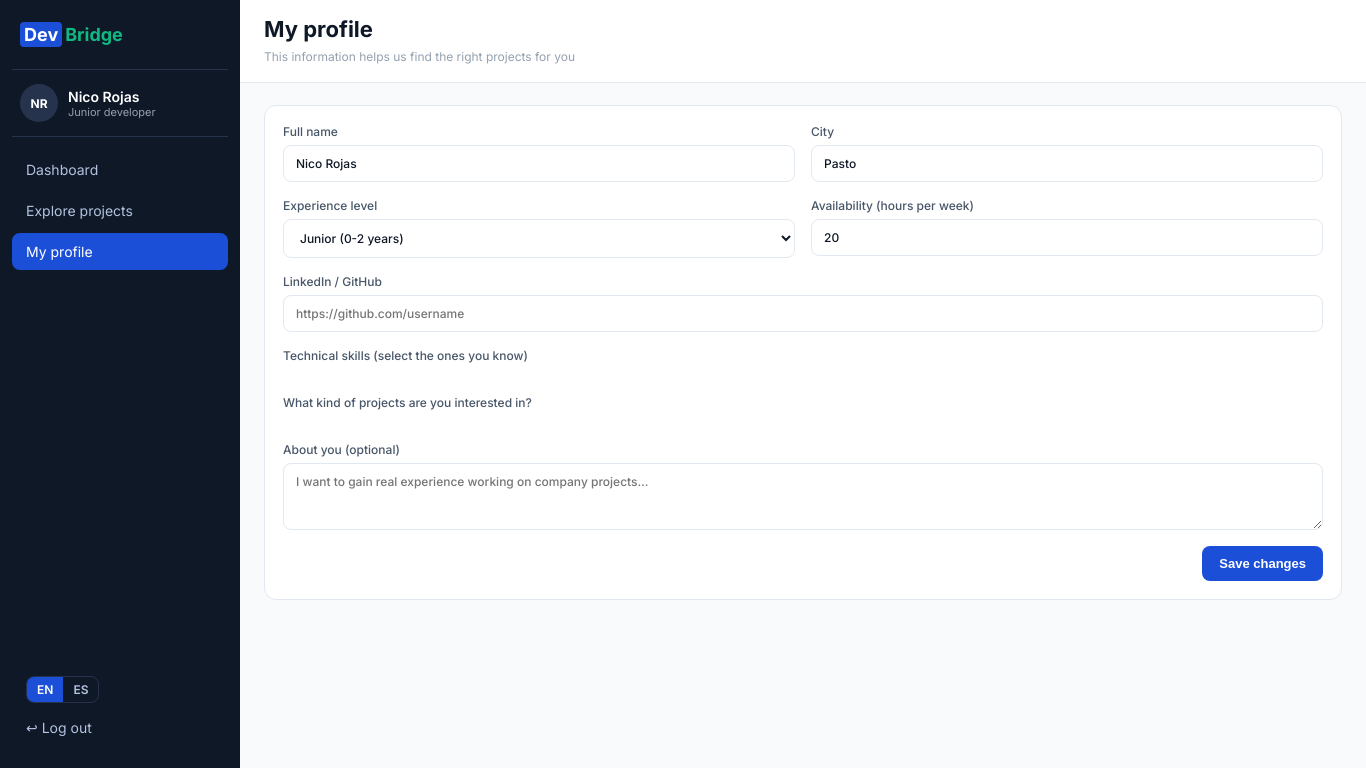
it: Profile › saves the changes
Replace the text in the field labelled "City" with "Bogotá" at (1067, 164), box [811,145,1323,182]
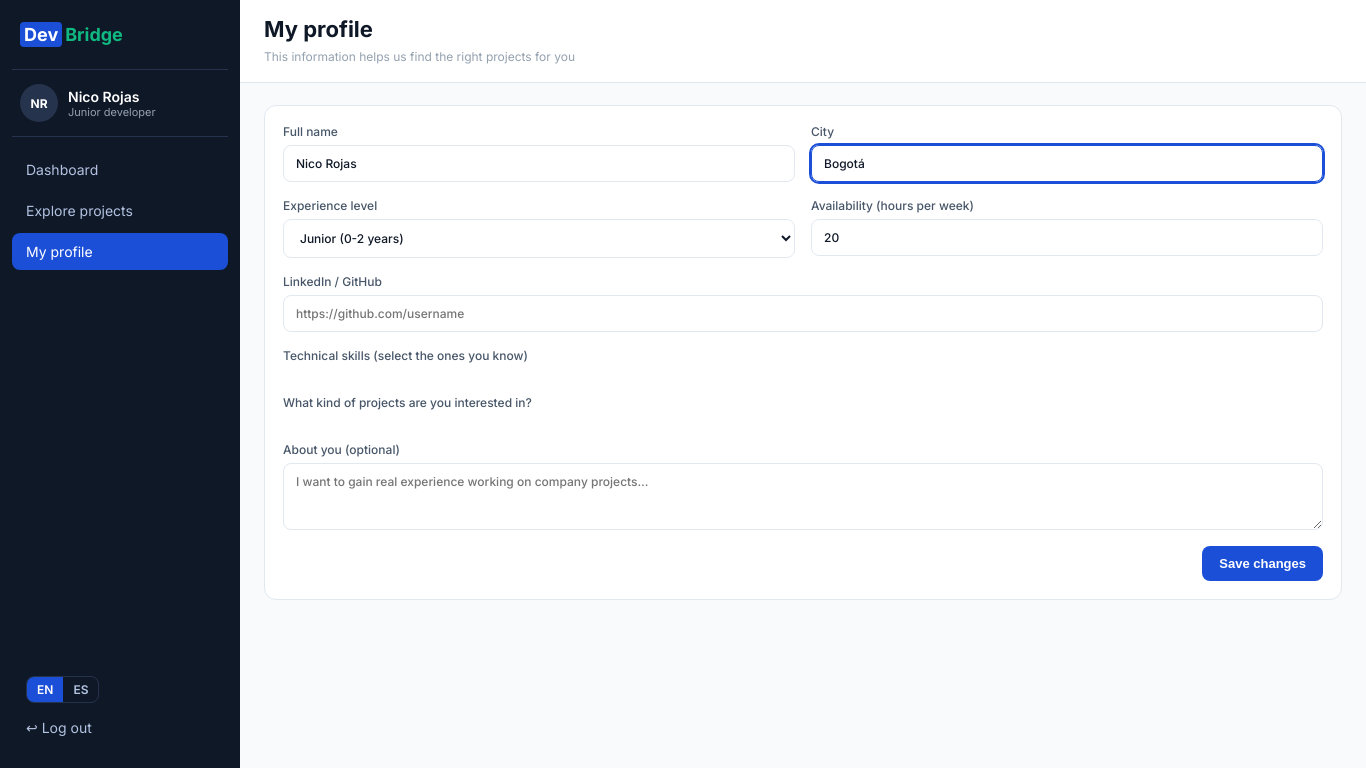
Click the button "Save changes".
click(1263, 564)  # box [1202,546,1323,581]
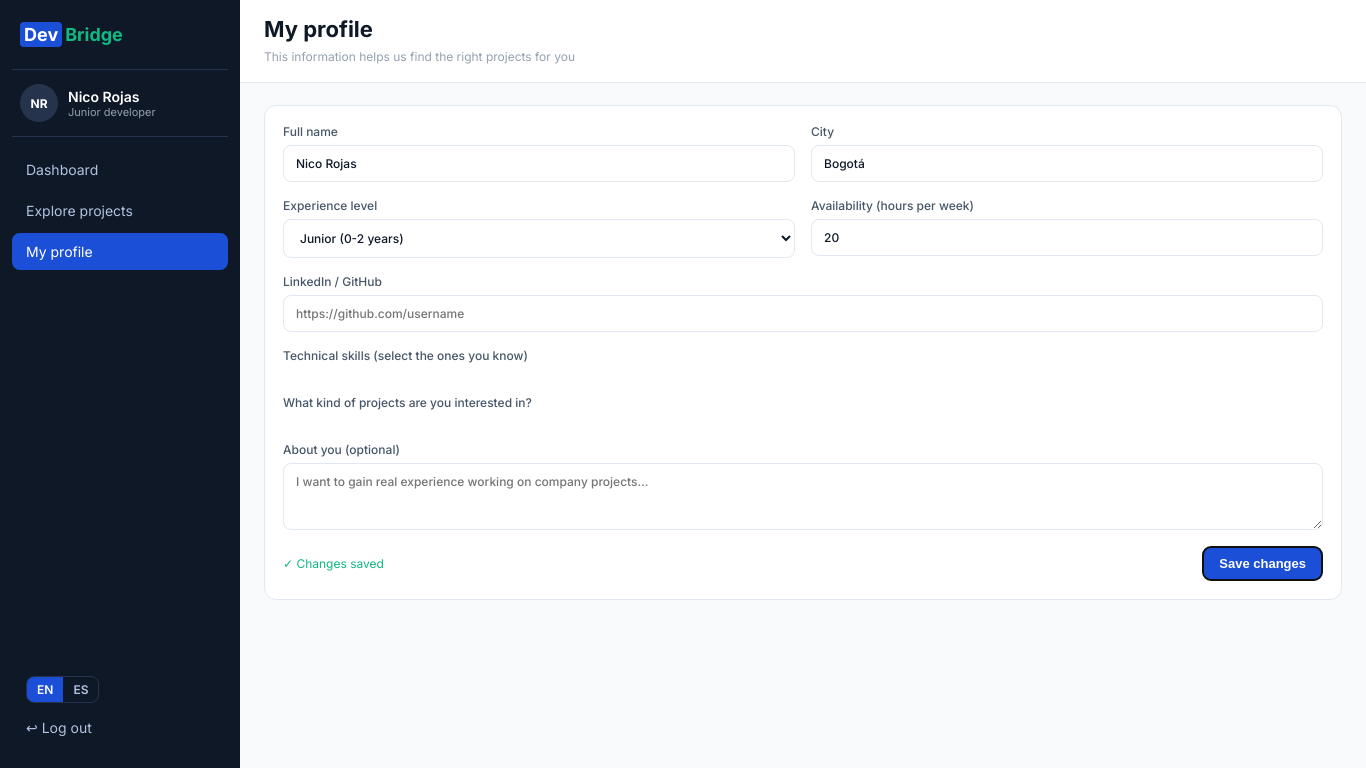
Check: the text "✓ Changes saved" is shown, box [283,556,384,571]
